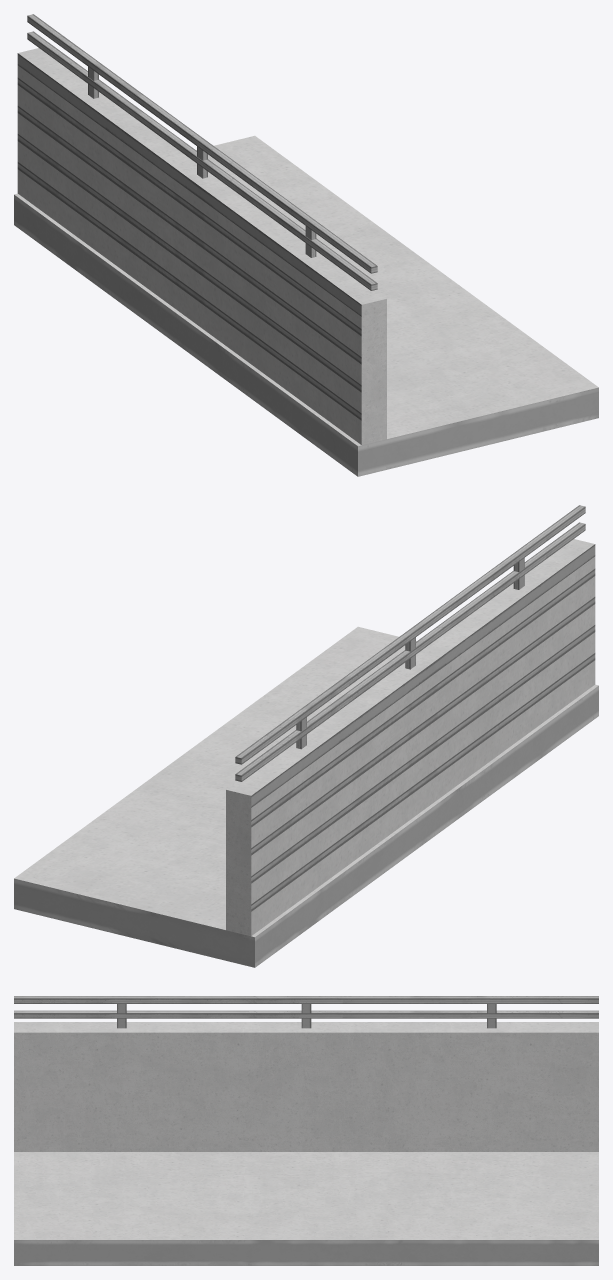
Rendered from MB_Balcony_4m.fbx.
3 views of the same model, one above another, from view 1: azimuth 30°, elevation 25°; view 2: azimuth 150°, elevation 25°; view 3: azimuth 270°, elevation 25° (orthographic). The views are drawn at different scales.
Parts seen in each view (by area): view 1: MB_Balcony_4m; view 2: MB_Balcony_4m; view 3: MB_Balcony_4m.
Part boxes in pixels (x1=…): MB_Balcony_4m: x1=14, y1=14, x2=598, y2=476; MB_Balcony_4m: x1=14, y1=505, x2=598, y2=967; MB_Balcony_4m: x1=14, y1=996, x2=598, y2=1265.
Bounding box in the file's own units: 162 × 132 × 400.
